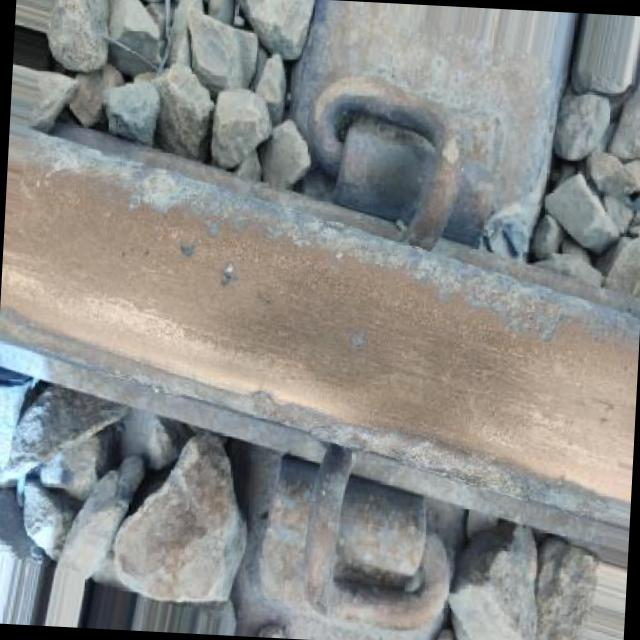defective: (0, 152, 640, 525)
